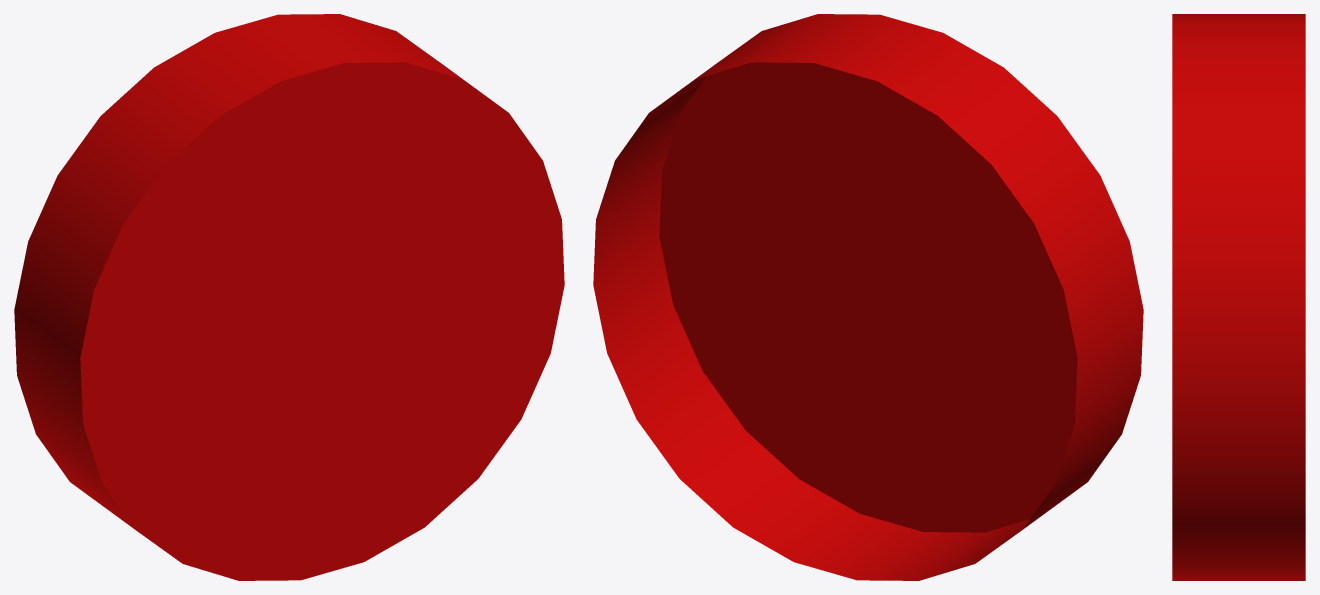
The model's file is original-8.obj.
The picture shows the model from 3 angles, left to right: view 1: azimuth 30°, elevation 25°; view 2: azimuth 150°, elevation 25°; view 3: azimuth 270°, elevation 25°; orthographic projection.
Visible parts, largest first — view 1: #ID52; view 2: #ID52; view 3: #ID52.
Part boxes in pixels (x1,y1,x2,y2): #ID52: (14, 14, 564, 580); #ID52: (593, 14, 1143, 580); #ID52: (1172, 14, 1305, 580).
Size of the model in its own units: 0.2134 by 0.2134 by 0.0504.
